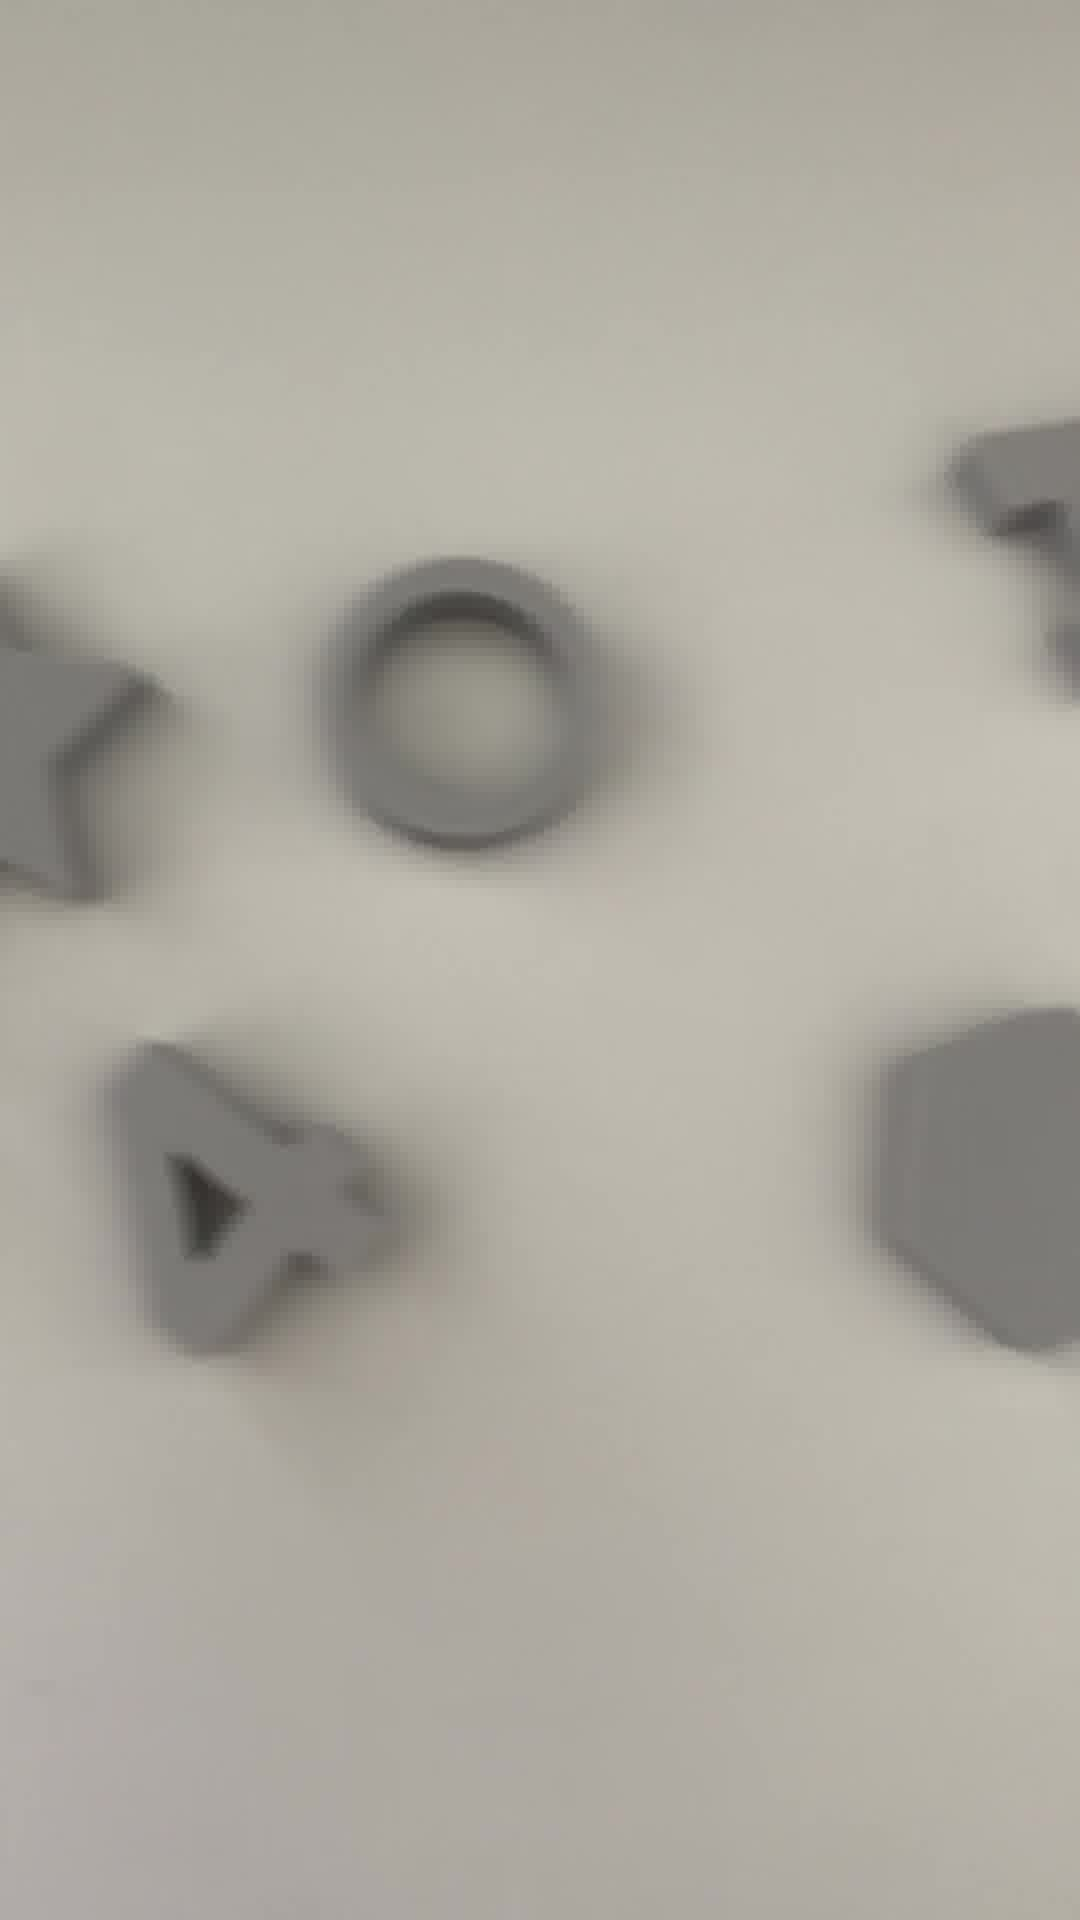Gray four: (105, 1029, 423, 1373)
Gray hexagon: (851, 997, 1080, 1373)
Gray ring: (305, 568, 633, 872)
Gray star: (1, 564, 141, 942)
